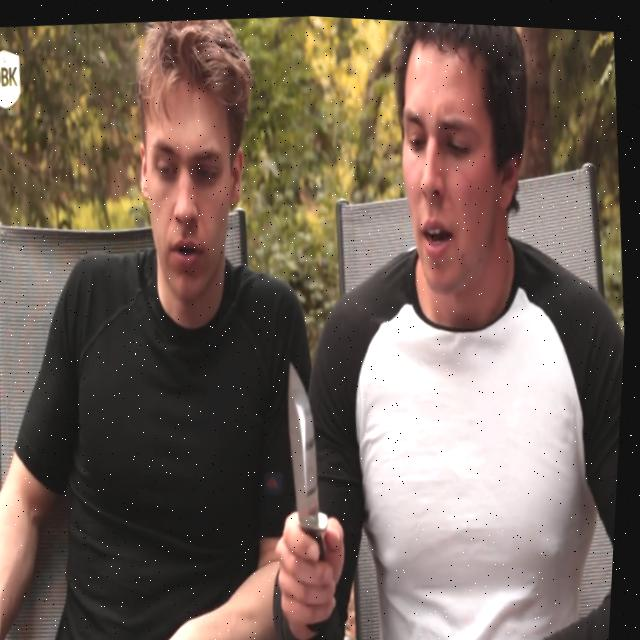knife: (277, 346, 343, 532)
